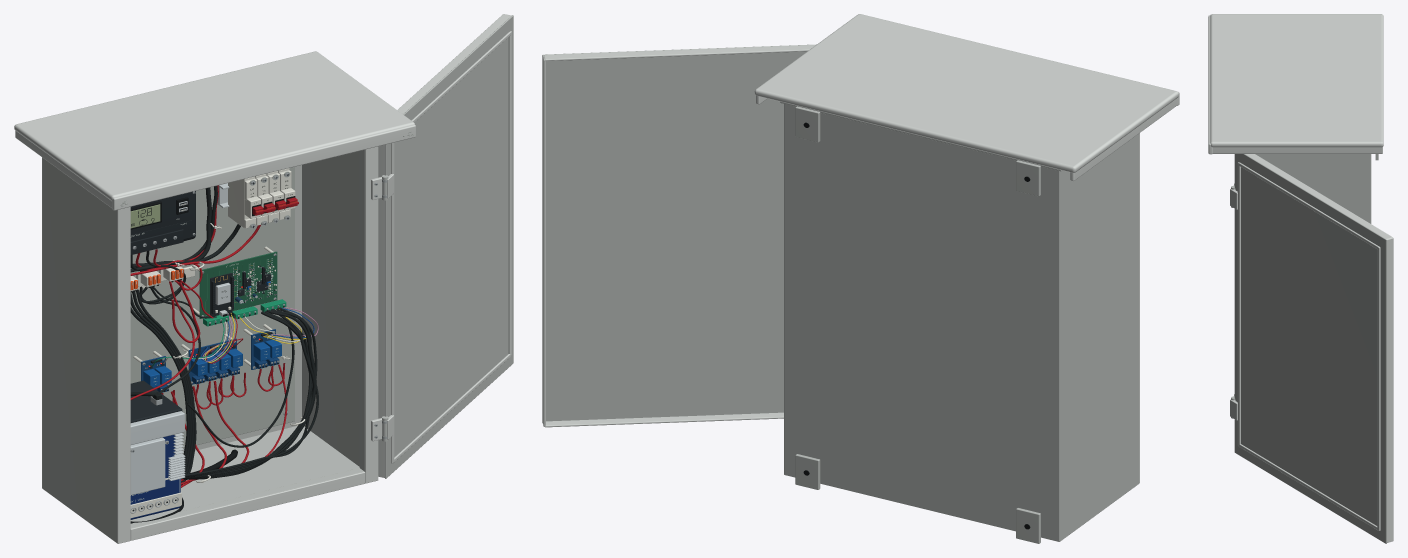
The model's file is Panel_IoT_8_Relay.glb.
The picture shows the model from 3 angles, left to right: view 1: azimuth 30°, elevation 25°; view 2: azimuth 150°, elevation 25°; view 3: azimuth 270°, elevation 25°; orthographic projection. The views are drawn at different scales.
Visible parts, largest first — view 1: Porte tole interieure.001, Casquette toit debordant.001, Flanc acier.002, Platine de montage interieure.001, Flanc acier.003, Fond / plafond.002, Retour frontal vertical.002, Retour frontal vertical.003, Rebord anti-pluie avant.001, Retour frontal horizontal.002, Fond de caisse / rear skin.001, Plaque FR4 perforee.001 (+21 smaller); view 2: Fond de caisse / rear skin.001, Porte tole interieure.001, Casquette toit debordant.001, Flanc acier.002, Ourlet porte horizontal.003, Ourlet porte horizontal.002, Ourlet porte vertical.002, Rebord anti-pluie lateral.002, Patte murale.007, Patte murale.006, Patte murale.004, Patte murale.005; view 3: Porte tole interieure.001, Casquette toit debordant.001, Flanc acier.003, Ourlet porte vertical.002, Rebord anti-pluie lateral.003, Repli porte vertical.002, Repli porte vertical.003, Ourlet porte horizontal.003, Repli porte horizontal.003, Repli porte horizontal.002, Rebord anti-pluie avant.001.
Part boxes in pixels (bbox=[...]): Porte tole interieure.001: bbox=[385, 15, 513, 478]; Casquette toit debordant.001: bbox=[14, 51, 415, 200]; Flanc acier.002: bbox=[42, 157, 116, 542]; Platine de montage interieure.001: bbox=[130, 167, 294, 448]; Flanc acier.003: bbox=[302, 151, 359, 466]; Fond / plafond.002: bbox=[130, 426, 359, 521]; Retour frontal vertical.002: bbox=[117, 207, 130, 543]; Retour frontal vertical.003: bbox=[364, 146, 378, 483]; Rebord anti-pluie avant.001: bbox=[112, 124, 415, 210]; Retour frontal horizontal.002: bbox=[130, 471, 365, 540]; Fond de caisse / rear skin.001: bbox=[42, 157, 301, 487]; Plaque FR4 perforee.001: bbox=[199, 251, 277, 318]; Fond de caisse / rear skin.001: bbox=[784, 104, 1058, 541]; Porte tole interieure.001: bbox=[542, 44, 816, 423]; Casquette toit debordant.001: bbox=[754, 14, 1178, 172]; Flanc acier.002: bbox=[1059, 134, 1138, 541]; Ourlet porte horizontal.003: bbox=[544, 45, 815, 61]; Ourlet porte horizontal.002: bbox=[545, 412, 783, 427]; Ourlet porte vertical.002: bbox=[542, 55, 545, 426]; Rebord anti-pluie lateral.002: bbox=[1070, 98, 1176, 181]; Patte murale.007: bbox=[795, 106, 820, 142]; Patte murale.006: bbox=[795, 454, 820, 489]; Patte murale.004: bbox=[1016, 508, 1040, 543]; Patte murale.005: bbox=[1016, 160, 1040, 196]; Porte tole interieure.001: bbox=[1234, 154, 1386, 543]; Casquette toit debordant.001: bbox=[1210, 14, 1383, 147]; Flanc acier.003: bbox=[1255, 154, 1371, 223]; Ourlet porte vertical.002: bbox=[1386, 237, 1393, 542]; Rebord anti-pluie lateral.003: bbox=[1213, 147, 1382, 153]; Repli porte vertical.002: bbox=[1377, 247, 1380, 530]; Repli porte vertical.003: bbox=[1237, 162, 1240, 445]; Ourlet porte horizontal.003: bbox=[1245, 154, 1392, 239]; Repli porte horizontal.003: bbox=[1238, 162, 1379, 249]; Repli porte horizontal.002: bbox=[1238, 444, 1377, 530]; Rebord anti-pluie avant.001: bbox=[1208, 15, 1212, 154].
Bounding box in the file's own units: 0.7699 × 0.5379 × 0.2818.
